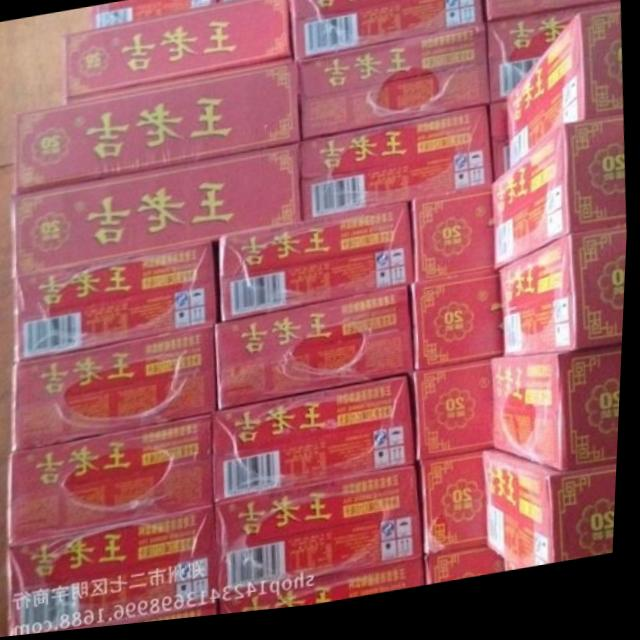box: (12, 147, 301, 274), (14, 66, 301, 192), (10, 508, 224, 636), (11, 419, 218, 547), (220, 473, 428, 599), (11, 329, 220, 451), (213, 384, 419, 505), (219, 293, 416, 416), (14, 245, 221, 361), (219, 206, 414, 325), (67, 0, 293, 101), (301, 114, 493, 226), (299, 34, 490, 146), (491, 126, 627, 282), (507, 18, 625, 175), (483, 459, 622, 581), (499, 237, 629, 367), (494, 358, 626, 483), (486, 12, 621, 112), (289, 0, 480, 65), (226, 567, 431, 620), (410, 282, 508, 379), (413, 193, 497, 291), (416, 367, 495, 471), (424, 463, 491, 565), (42, 603, 223, 635), (484, 0, 621, 31), (92, 0, 218, 25), (431, 560, 509, 594), (490, 111, 511, 188)
